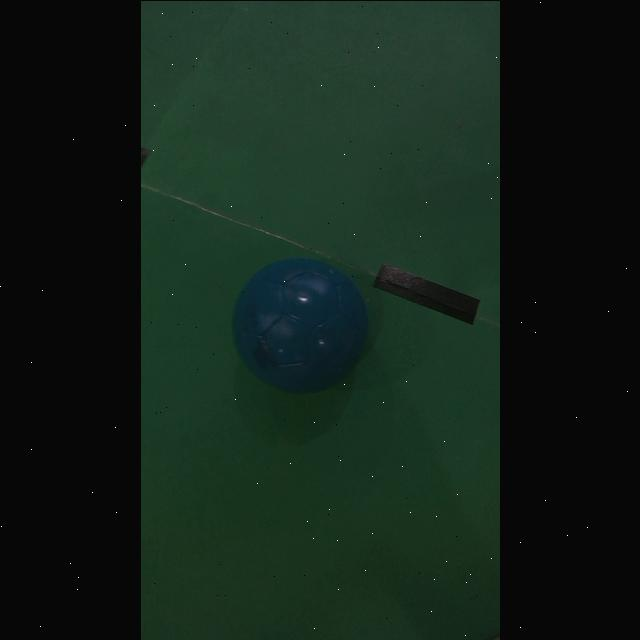B: (233, 257, 367, 392)
